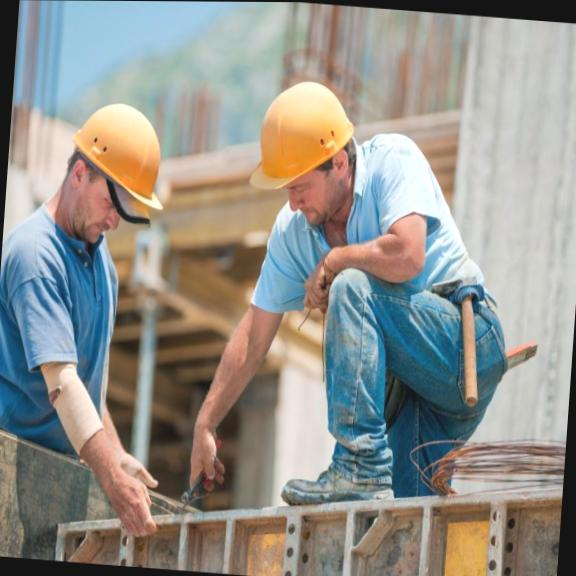no_safety_vest: (263, 130, 468, 331), (0, 232, 125, 462)
